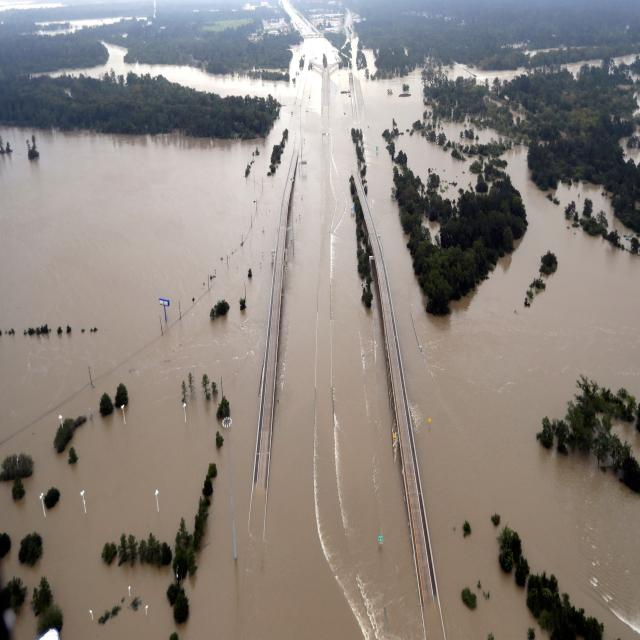flooded_areas: (250, 52, 437, 640)
